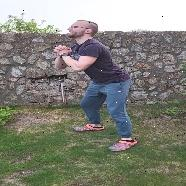squats: (52, 10, 142, 153)
